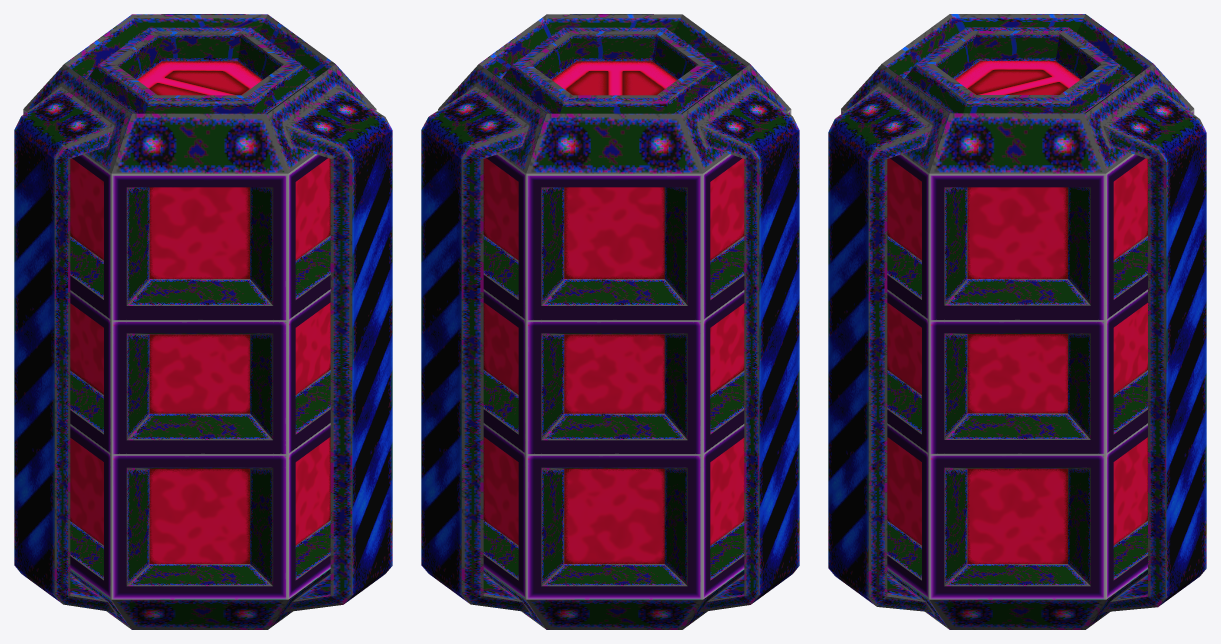
The model's file is enemies_emissor.fbx.
3 views of the same model, side by side, from view 1: azimuth 30°, elevation 25°; view 2: azimuth 150°, elevation 25°; view 3: azimuth 270°, elevation 25° (orthographic).
Visible parts, largest first — view 1: EnergyPack03; view 2: EnergyPack03; view 3: EnergyPack03.
Boxes of the visible parts, <box> form: EnergyPack03: <box>14,14,392,629</box>; EnergyPack03: <box>421,14,799,629</box>; EnergyPack03: <box>828,14,1206,629</box>.
Size of the model in its own units: 766 by 843 by 1270.
1 material, 1 textured.
